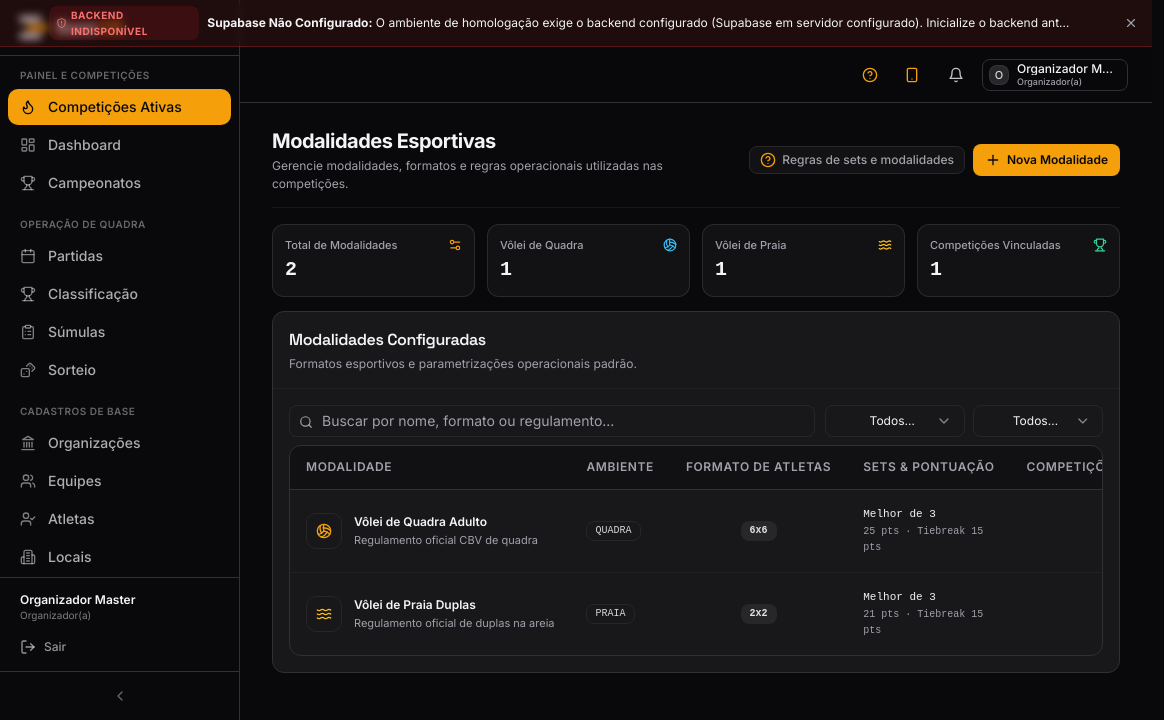
Scenario: ModalitiesPage Component (Fase 8.3) › filtra modalidades por busca textual em tempo real
Expected: the text "Vôlei de Quadra Adulto" is shown, [354,514,487,529]
In the field with placeholder "Buscar por nome, formato ou regulamento...": (552, 420) [289,404,815,436], type "Praia"
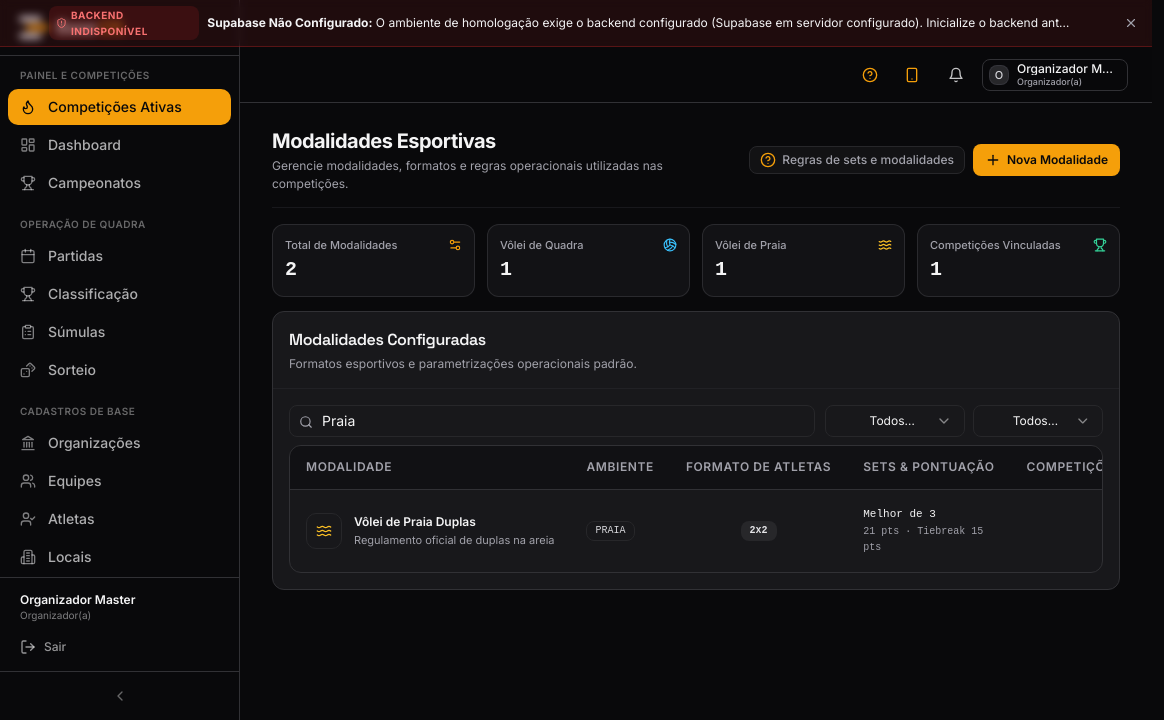
Expected: the text "Vôlei de Praia Duplas" is shown, [354,514,476,529]
Now the text "Vôlei de Quadra Adulto" is gone
